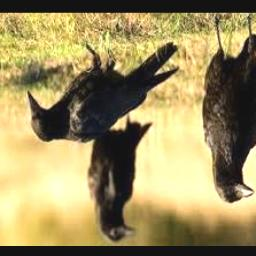Crow: (26, 41, 179, 144), (202, 15, 256, 204), (88, 111, 153, 242)
